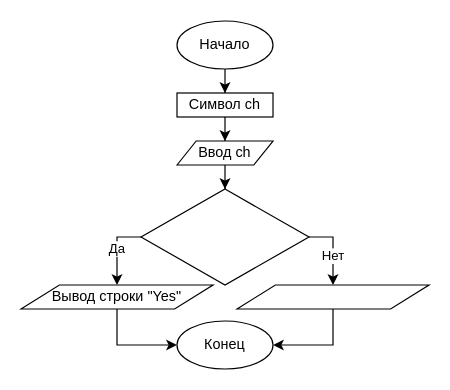
Image size: 450x390. Some labels were removed from this diagram. Here are the shapes that lost their labels. From the top down, the centre of each, then its label:
[224,236]: ch == ','|| ch == '.' || ch == ';'|| ch == ':' || ch == '!'|| ch == '?'
[332,296]: Вывод строки "No"
